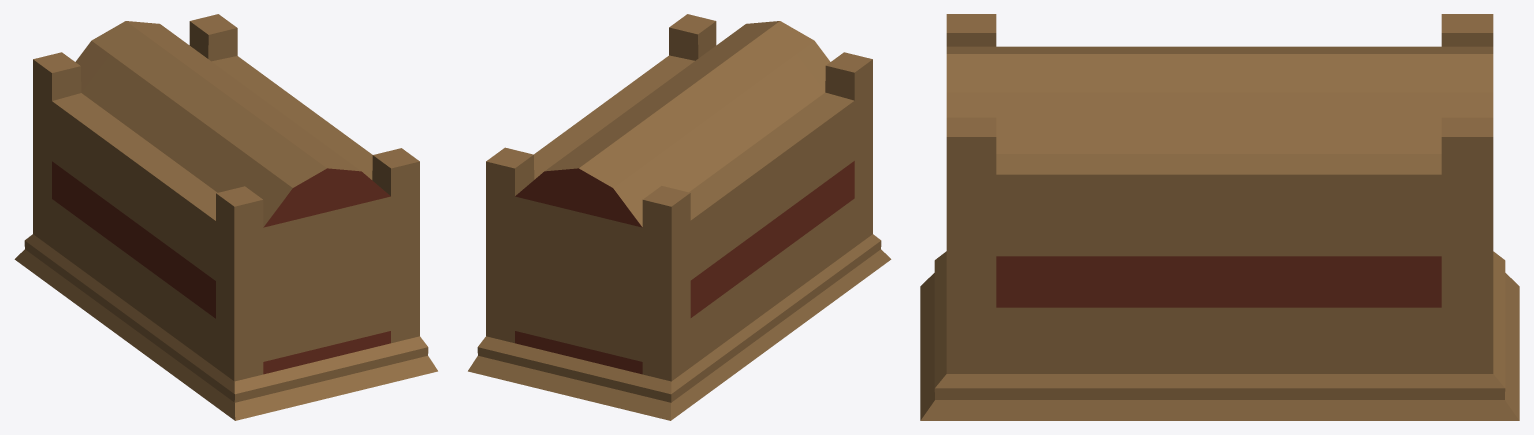
The model's file is V_Egito03_Tumba.fbx.
3 renders of one model, left to right at view 1: azimuth 30°, elevation 25°; view 2: azimuth 150°, elevation 25°; view 3: azimuth 270°, elevation 25°, orthographic. The views are drawn at different scales.
Visible parts, largest first — view 1: Cube; view 2: Cube; view 3: Cube.
Part boxes in pixels (left/top/right/bottom): Cube: left=14, top=14, right=437, bottom=420; Cube: left=468, top=14, right=891, bottom=420; Cube: left=920, top=14, right=1519, bottom=420.
Size of the model in its own units: 323 by 335 by 608.
